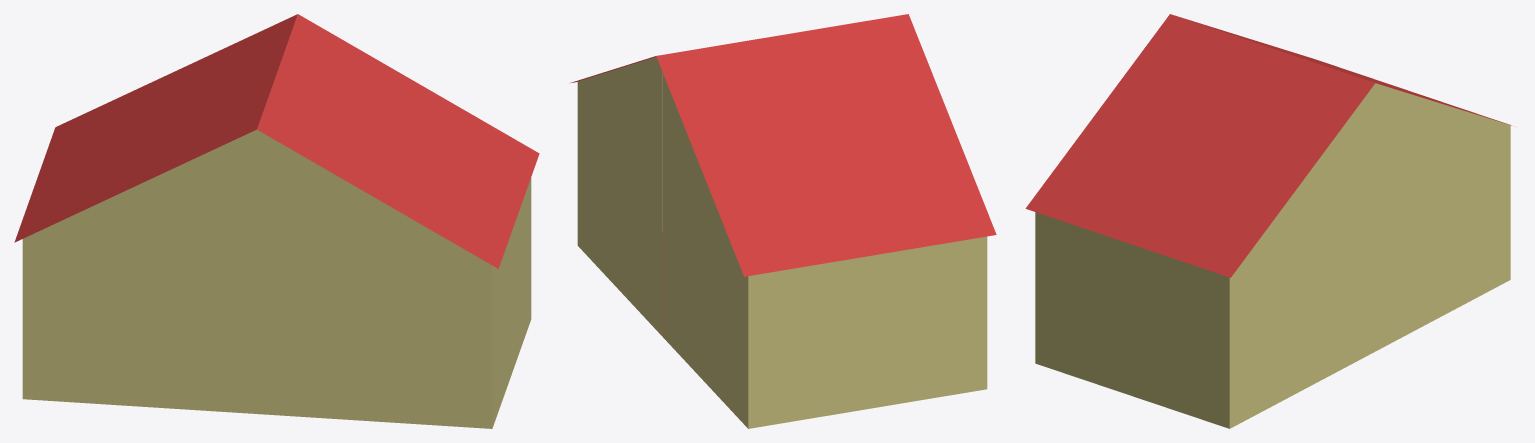
3 views of the same model, side by side, from view 1: azimuth 30°, elevation 25°; view 2: azimuth 150°, elevation 25°; view 3: azimuth 270°, elevation 25° (orthographic). The views are drawn at different scales.
Bounding box in the file's own units: 18.82 × 17.67 × 10.76.
